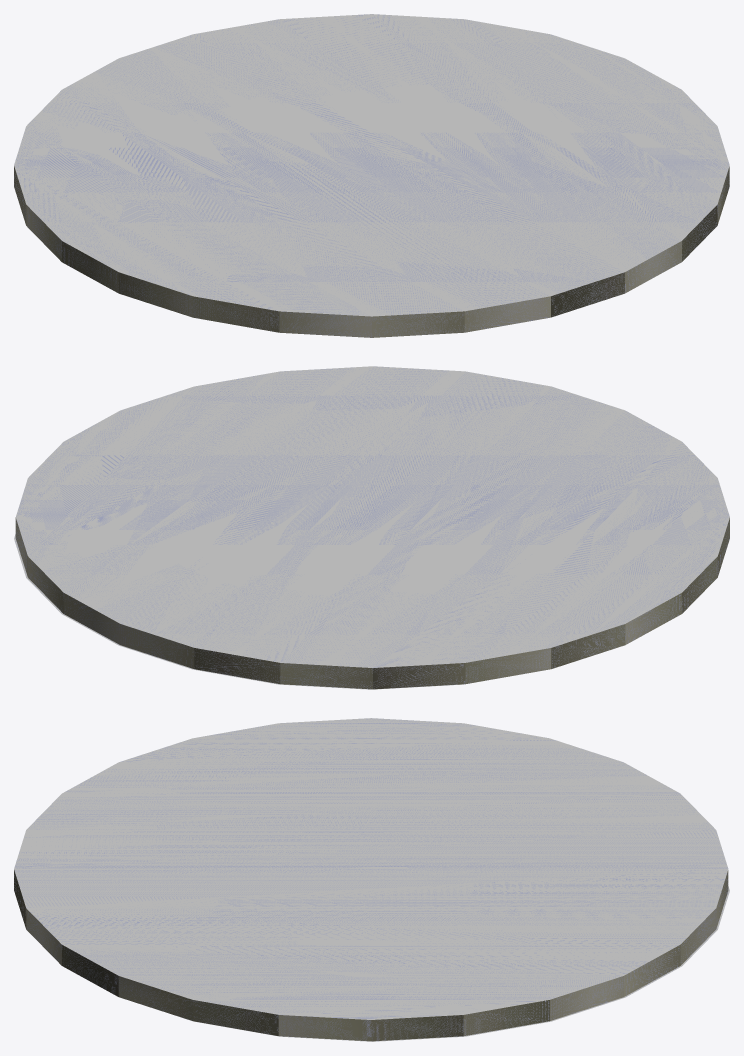
The picture shows the model from 3 angles, top to bottom: view 1: azimuth 30°, elevation 25°; view 2: azimuth 150°, elevation 25°; view 3: azimuth 270°, elevation 25°; orthographic projection.
Parts seen in each view (by area): view 1: SketchUp (×2); view 2: SketchUp (×3); view 3: SketchUp (×3).
Boxes of the visible parts, x1,y1,x2,y2 form: SketchUp (×2): (14,14,729,337); SketchUp (×3): (14,366,729,689); SketchUp (×3): (14,718,729,1041).
Size of the model in its own units: 2.73 by 2.74 by 0.09.
